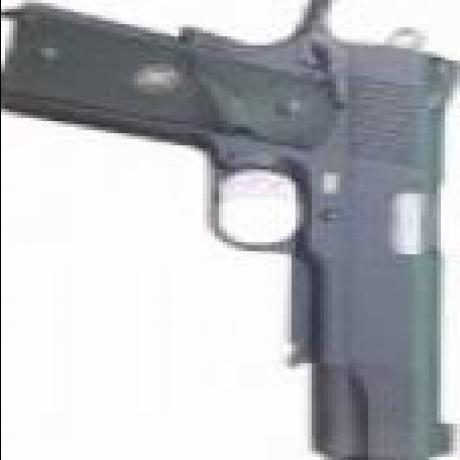weapon: (0, 6, 454, 458)
